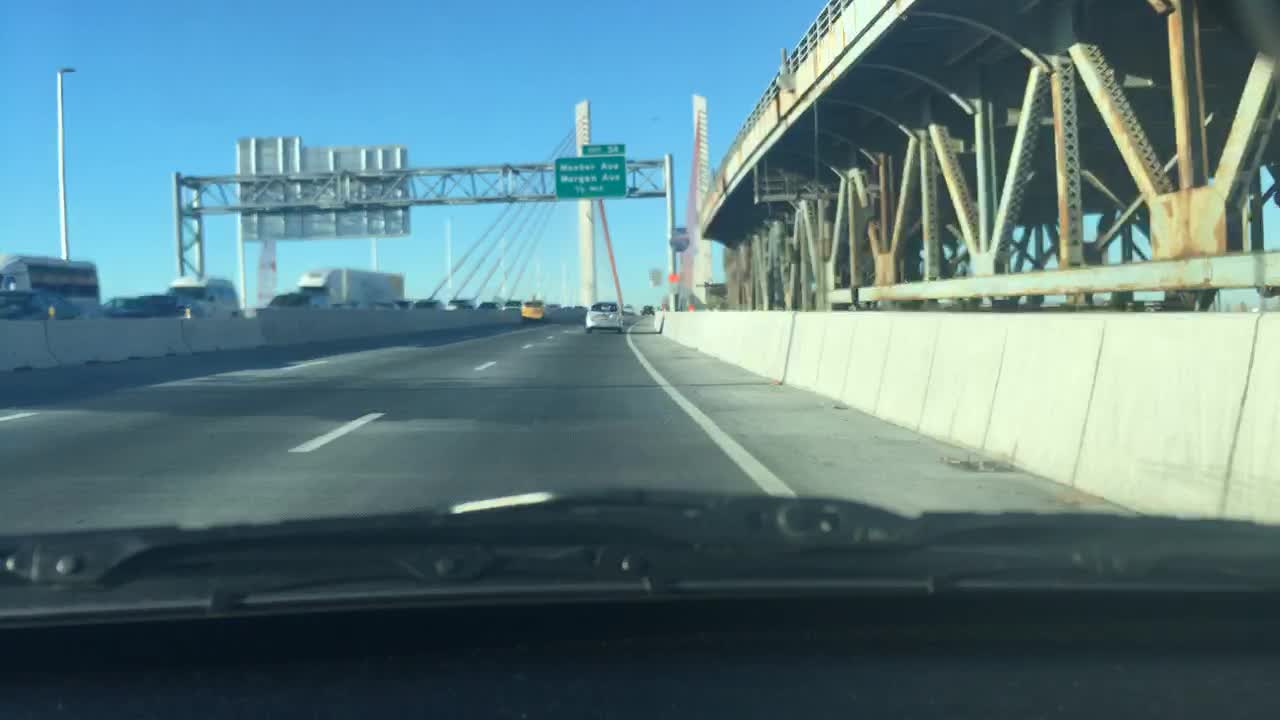car: (170, 277, 239, 314), (0, 288, 79, 316), (102, 292, 174, 314), (584, 302, 622, 334), (271, 295, 306, 307), (446, 297, 473, 308), (412, 300, 442, 309), (478, 298, 500, 309), (503, 297, 522, 309), (640, 304, 653, 317), (622, 301, 631, 315), (545, 302, 559, 308), (561, 305, 572, 311), (573, 304, 584, 309)
traffic sign: (233, 177, 411, 238), (232, 138, 406, 169), (554, 154, 625, 197), (581, 143, 624, 155), (671, 225, 688, 250)
truck: (4, 256, 99, 319), (307, 267, 402, 307)
